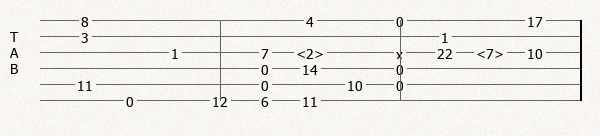0: (126, 93, 138, 107), (261, 61, 273, 75), (261, 77, 273, 91), (396, 13, 408, 27), (396, 61, 408, 75), (396, 77, 408, 91)
1: (171, 45, 183, 59), (441, 29, 453, 43)
10: (347, 77, 367, 91), (527, 45, 547, 59)
11: (77, 77, 97, 91), (302, 93, 322, 107)
12: (212, 93, 232, 107)
14: (302, 61, 322, 75)
17: (527, 13, 547, 27)
22: (437, 45, 457, 59)
3: (81, 29, 93, 43)
4: (306, 13, 318, 27)
6: (261, 93, 273, 107)
7: (261, 45, 273, 59)
8: (81, 13, 93, 27)
harmonic: (296, 45, 328, 59), (476, 45, 508, 59)
x: (396, 46, 407, 58)
